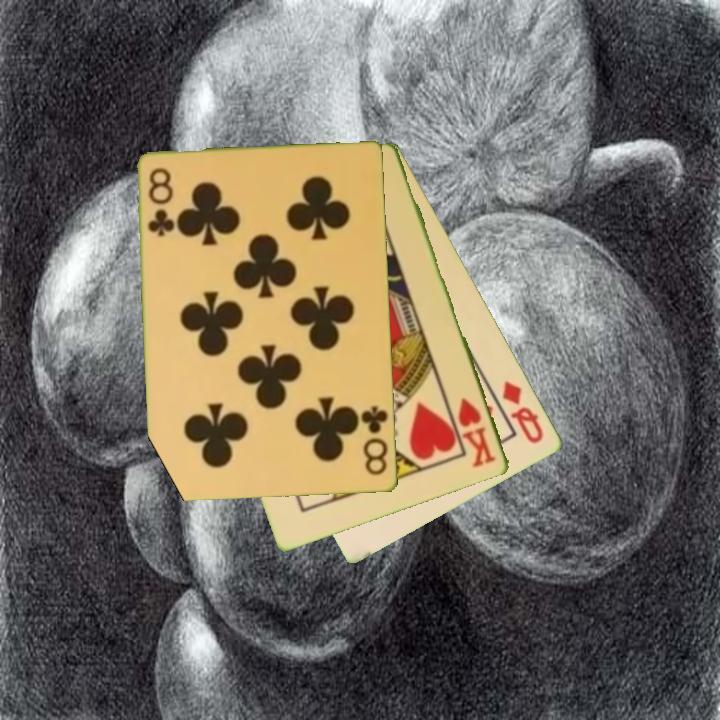8c: (358, 402, 391, 478), (144, 165, 177, 240)
Kh: (454, 394, 499, 471)
Qd: (499, 377, 547, 447)
